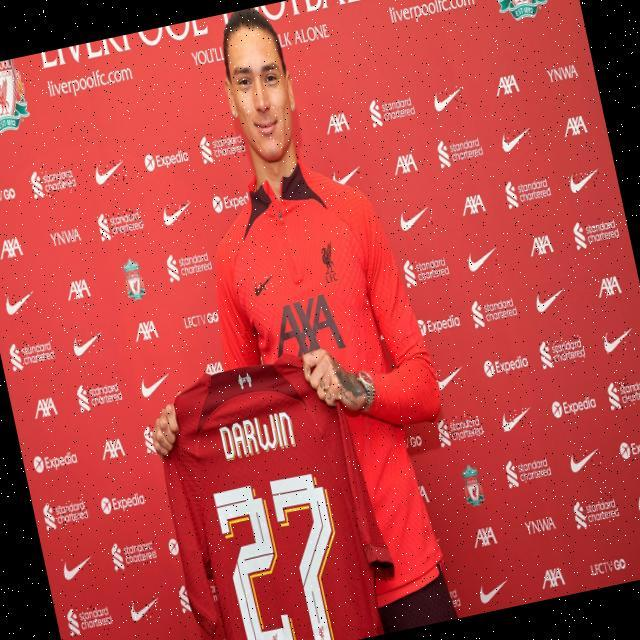Nike: (93, 158, 128, 187), (397, 204, 433, 232), (431, 85, 467, 113), (601, 327, 637, 355), (499, 126, 535, 153), (567, 167, 603, 194), (61, 554, 95, 582), (128, 595, 162, 623), (161, 199, 195, 227), (3, 288, 38, 315), (466, 246, 501, 273), (568, 447, 603, 474), (533, 287, 569, 313), (139, 372, 173, 399), (477, 578, 512, 604), (500, 406, 535, 432), (71, 330, 104, 357), (434, 364, 466, 390), (330, 165, 363, 187), (252, 273, 277, 297)
Standard Chartered: (469, 291, 519, 330), (197, 127, 247, 165), (435, 131, 485, 169), (42, 493, 91, 531), (7, 334, 56, 372), (402, 251, 451, 289), (503, 451, 552, 489), (537, 332, 586, 370), (572, 493, 621, 531), (572, 213, 621, 251), (28, 164, 78, 201), (366, 90, 416, 127), (435, 410, 485, 447), (75, 376, 124, 413), (109, 535, 158, 572), (97, 205, 146, 242), (164, 246, 213, 283), (504, 173, 553, 210), (65, 601, 114, 637), (605, 372, 640, 410), (142, 423, 160, 456), (177, 584, 191, 613)
